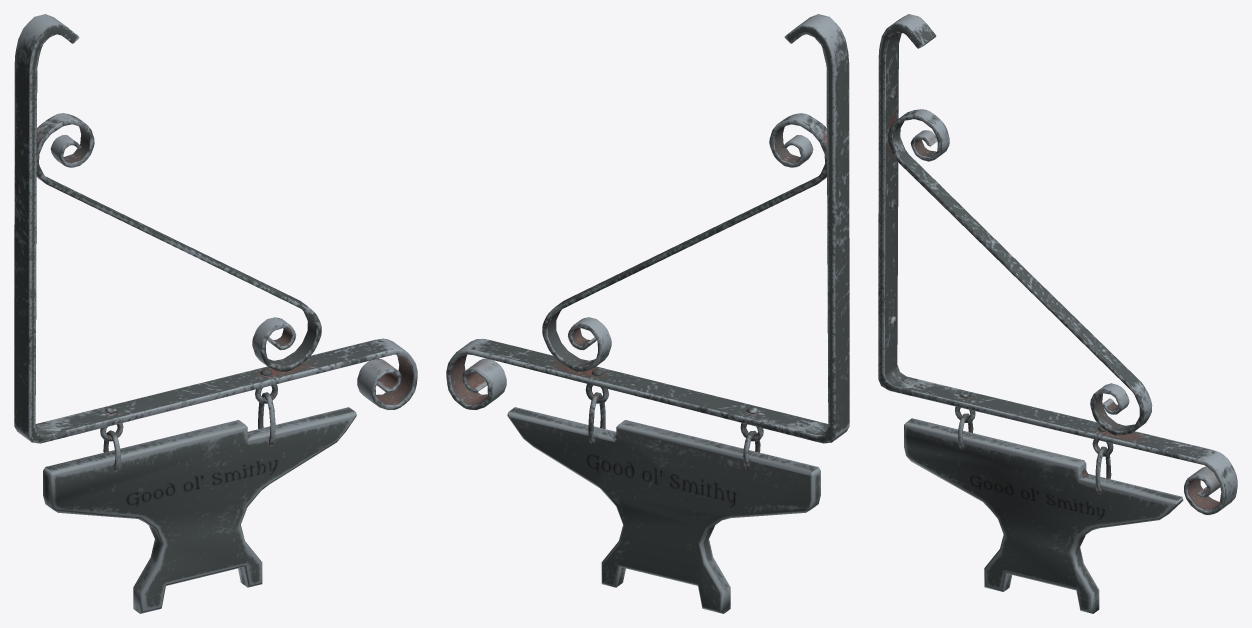
Rendered from smithy_sign.glb.
The picture shows the model from 3 angles, left to right: view 1: azimuth 30°, elevation 25°; view 2: azimuth 150°, elevation 25°; view 3: azimuth 330°, elevation 25°; orthographic projection. The views are drawn at different scales.
Parts seen in each view (by area): view 1: SM_Blacksmith_Sign2_132_M_BlacksmithSign_0; view 2: SM_Blacksmith_Sign2_132_M_BlacksmithSign_0; view 3: SM_Blacksmith_Sign2_132_M_BlacksmithSign_0.
Part boxes in pixels (box(x1,y1,x2,y2)): SM_Blacksmith_Sign2_132_M_BlacksmithSign_0: box(14, 14, 417, 613); SM_Blacksmith_Sign2_132_M_BlacksmithSign_0: box(446, 14, 849, 613); SM_Blacksmith_Sign2_132_M_BlacksmithSign_0: box(878, 14, 1237, 613).
Size of the model in its own units: 122 by 183 by 8.45.
1 material, 1 textured.
